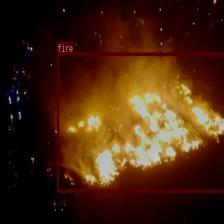fire: (56, 52, 224, 191)
